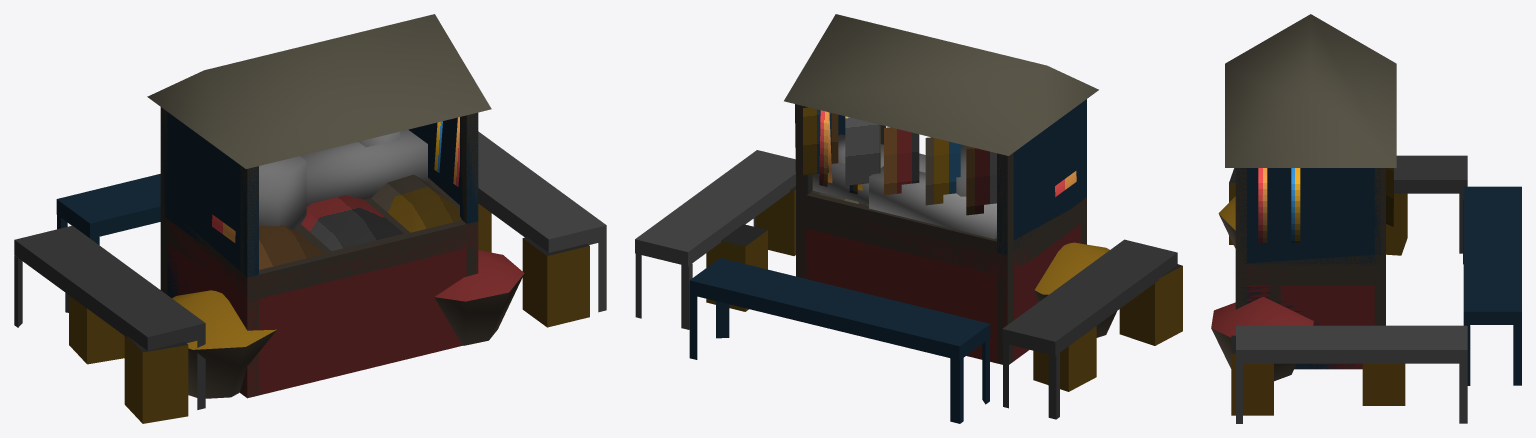
Rendered from Stalls.fbx.
3 views of the same model, side by side, from view 1: azimuth 30°, elevation 25°; view 2: azimuth 150°, elevation 25°; view 3: azimuth 270°, elevation 25° (orthographic). The views are drawn at different scales.
Parts seen in each view (by area): view 1: Stall 6, Stall 3, Stall 1, Stall 8, Stall 7, Stall 5, Stall 4; view 2: Stall 3, Stall 6, Stall 4, Stall 2, Stall 7, Stall 1, Stall 8, Stall 5; view 3: Stall 3, Stall 8, Stall 4, Stall 6, Stall 7, Stall 1, Stall 5, Stall 2.
Boxes of the visible parts, x1,y1,x2,y2 form: Stall 6: [14, 129, 478, 409]; Stall 3: [147, 14, 606, 397]; Stall 1: [163, 174, 478, 394]; Stall 8: [161, 109, 478, 297]; Stall 7: [69, 203, 589, 423]; Stall 5: [172, 250, 524, 398]; Stall 4: [56, 174, 160, 245]; Stall 3: [635, 14, 1098, 362]; Stall 6: [797, 134, 1177, 419]; Stall 4: [689, 258, 990, 423]; Stall 2: [795, 104, 1069, 269]; Stall 7: [706, 186, 1182, 391]; Stall 1: [796, 190, 1086, 364]; Stall 8: [806, 99, 1086, 255]; Stall 5: [1034, 242, 1116, 337]; Stall 3: [1225, 14, 1467, 423]; Stall 8: [1235, 168, 1384, 369]; Stall 4: [1463, 186, 1521, 385]; Stall 6: [1236, 155, 1467, 369]; Stall 7: [1229, 168, 1407, 415]; Stall 1: [1235, 254, 1385, 325]; Stall 5: [1211, 196, 1313, 381]; Stall 2: [1269, 168, 1393, 304].
Bounding box in the file's own units: 4.02 × 2.45 × 2.68.
1 material, 1 textured.
